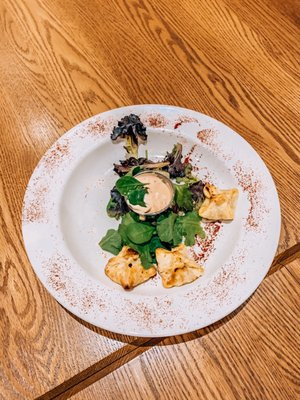curry: (1, 0, 297, 396)
